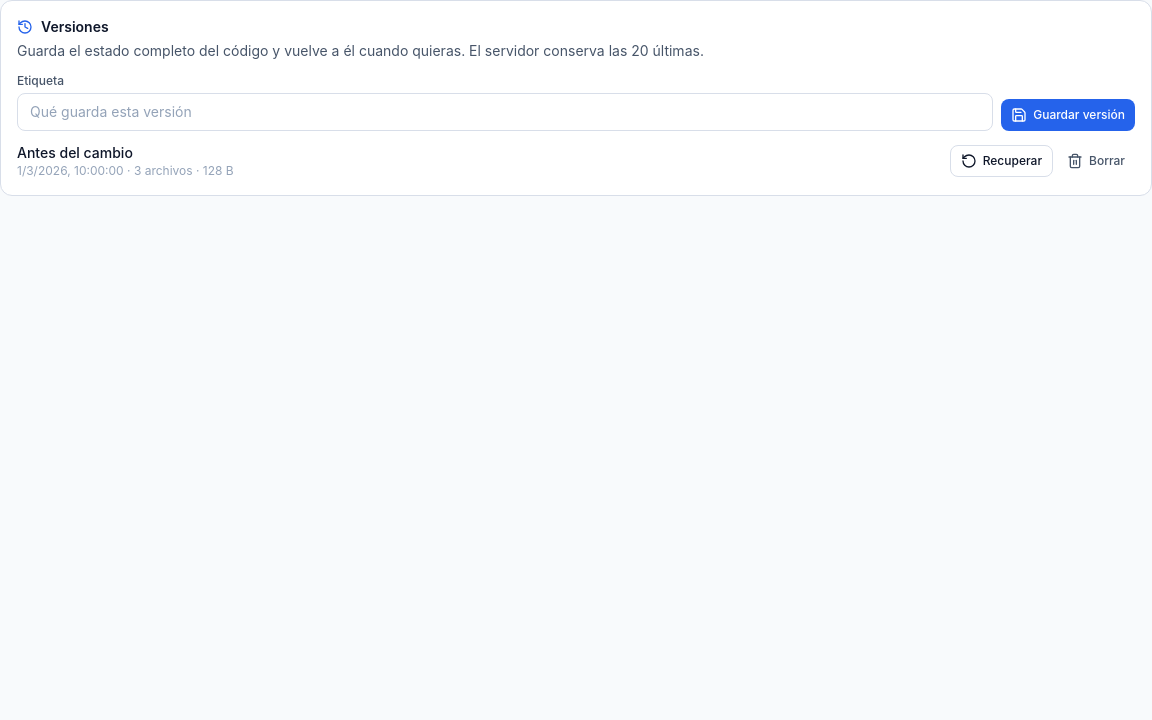
it: ProjectVersions › borra una versión tras confirmarla
Check: the text "Antes del cambio" is shown, box [17,144,133,161]
Step 1. Click the button with aria-label "Borrar «Antes del cambio»" → [1096, 161], box [1057,145,1135,177]
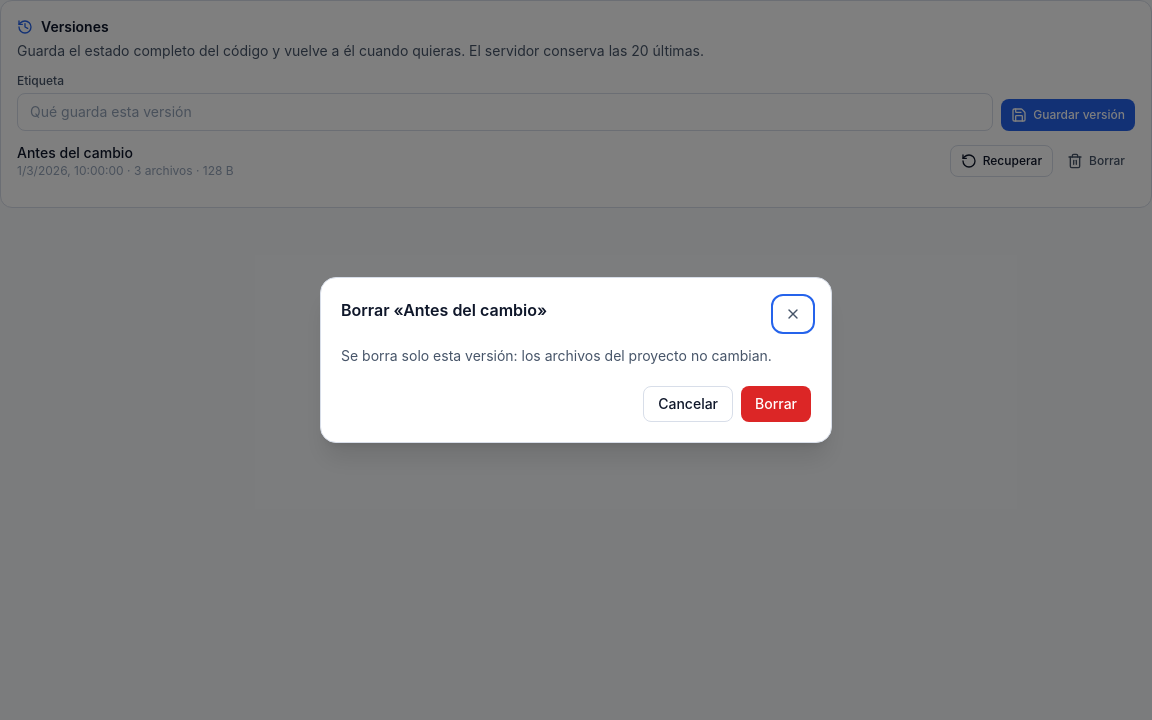
Step 2. Click the button "Borrar" → [776, 404], box [741,386,811,422]
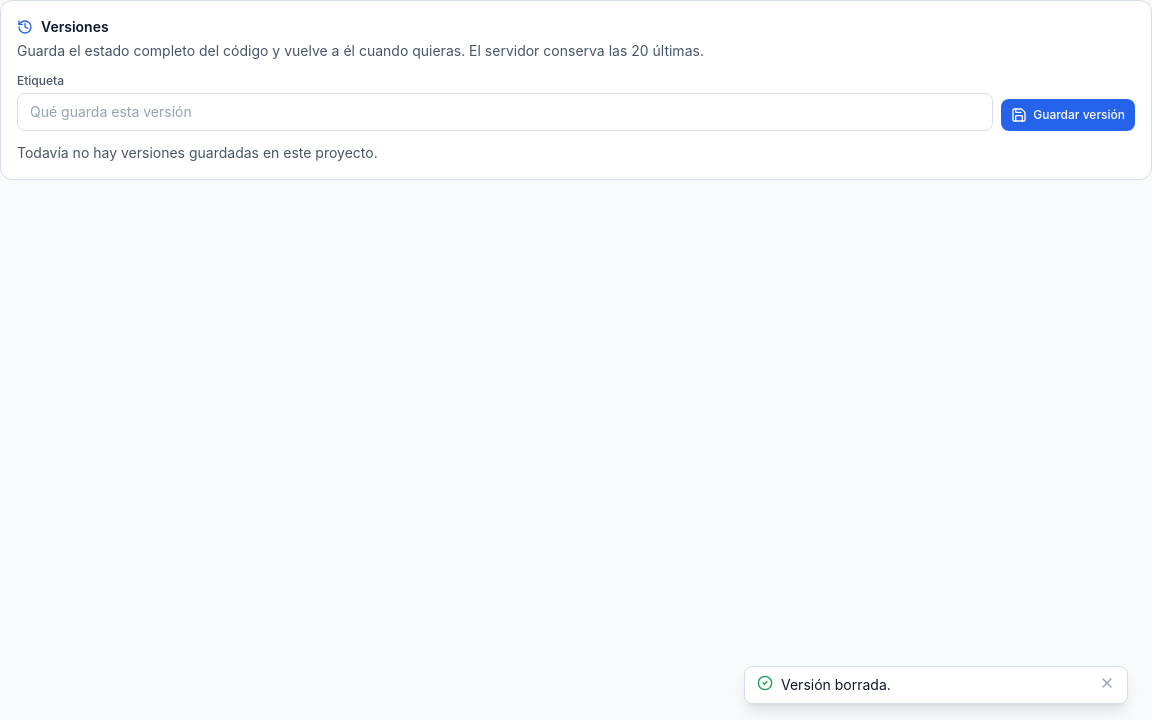
Check: the text "Todavía no hay versiones guardadas en este proyecto." is shown, box [17,144,378,161]
